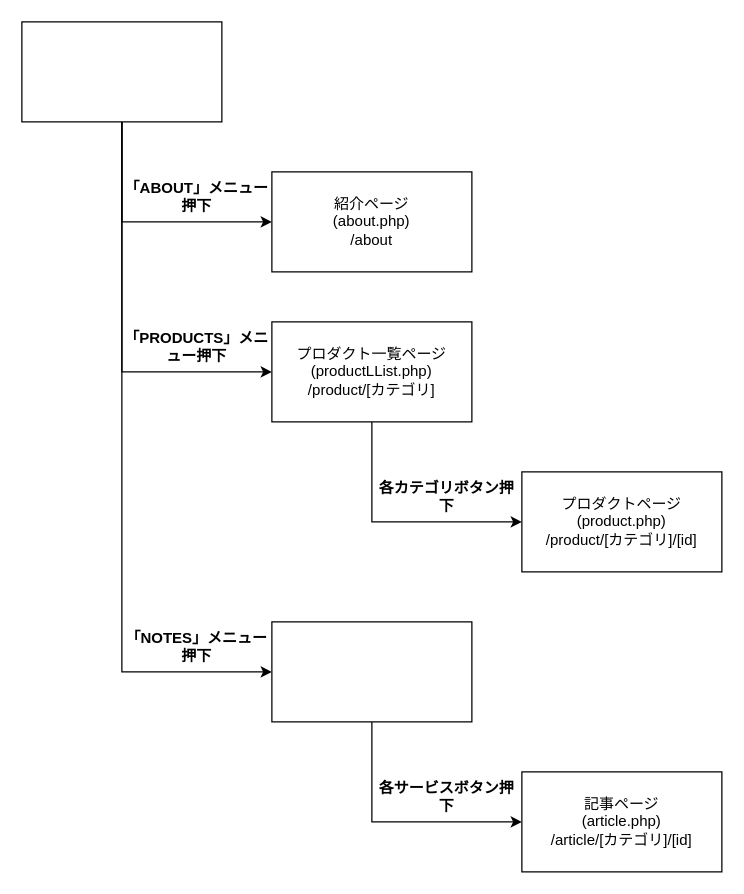
The diagram is 744 pixels wide and 894 high, and some of its shapes have lost their labels. Here are the shapes that lost their labels. From the top down, the centre of each, then its label:
At [121,71]: "ルーティングファイル (index.php)".
At [371,671]: "記事一覧ページ (articleList.php) /article/[カテゴリ]".
